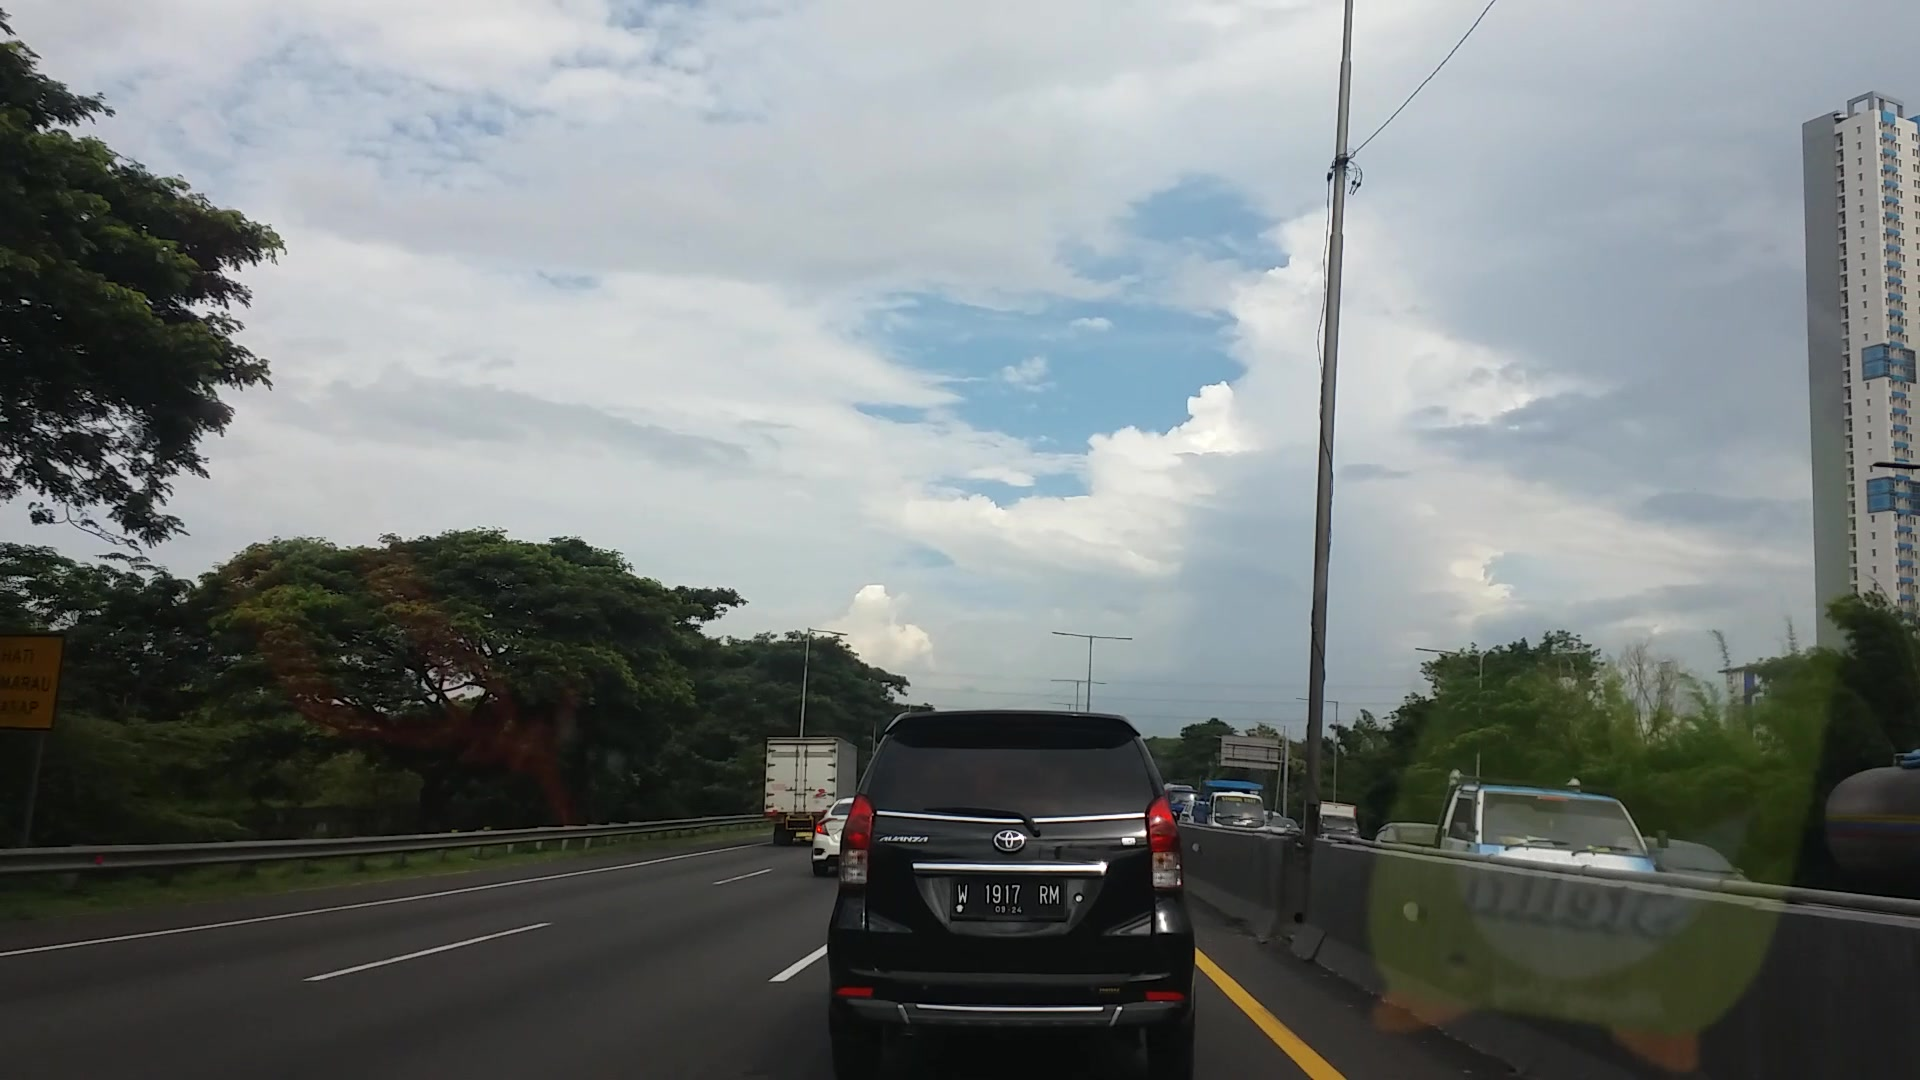plate_positive: (951, 873, 1065, 922)
